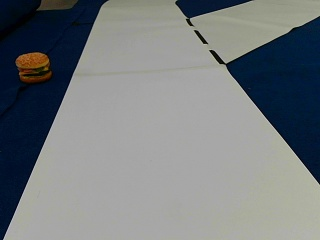burger: (15, 51, 52, 82)
